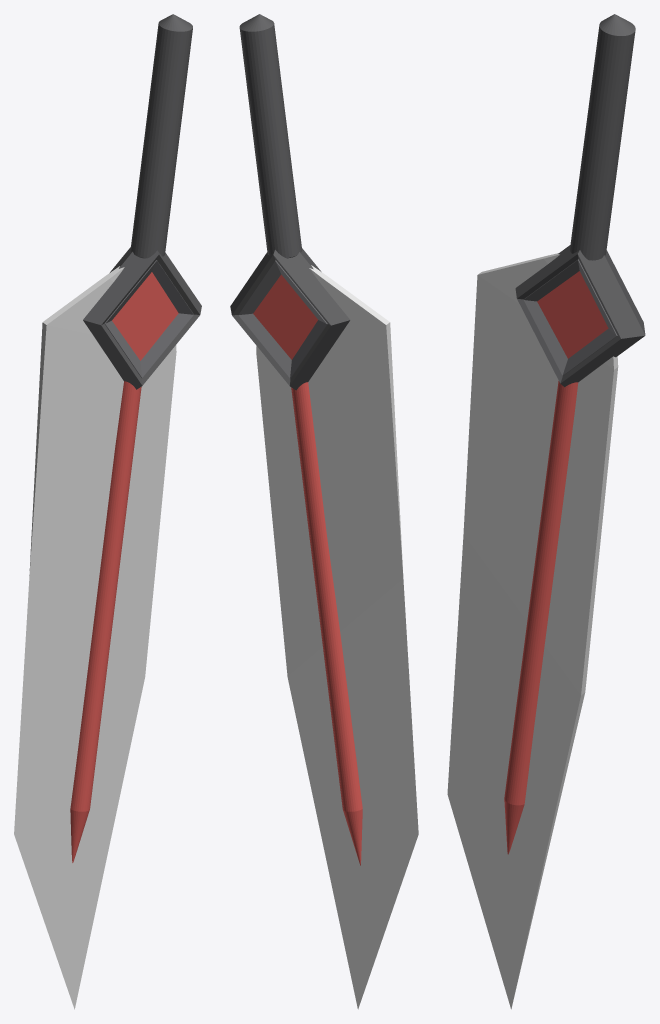
Rendered from Dagger_Black_1.fbx.
3 renders of one model, left to right at view 1: azimuth 30°, elevation 25°; view 2: azimuth 150°, elevation 25°; view 3: azimuth 330°, elevation 25°, orthographic. The views are drawn at different scales.
Visible parts, largest first — view 1: Cube.002, Cylinder.002, Torus.004, Cube.006, Torus.005; view 2: Cube.002, Cylinder.002, Torus.004, Cube.006, Torus.005; view 3: Cube.002, Cylinder.002, Torus.004, Cube.006, Torus.005.
Part boxes in pixels (box(x1,y1,x2,y2)): Cube.002: box(14, 266, 176, 1009); Cylinder.002: box(70, 14, 192, 862); Torus.004: box(83, 247, 201, 389); Cube.006: box(112, 272, 178, 360); Torus.005: box(104, 260, 193, 377); Cube.002: box(256, 265, 418, 1009); Cylinder.002: box(239, 14, 362, 865); Torus.004: box(230, 248, 350, 390); Cube.006: box(253, 274, 317, 359); Torus.005: box(238, 260, 327, 378); Cube.002: box(447, 253, 618, 1009); Cylinder.002: box(504, 14, 635, 854); Torus.004: box(515, 245, 645, 387); Cube.006: box(537, 271, 608, 358); Torus.005: box(523, 259, 617, 375).
Size of the model in its own units: 58.51 by 289 by 11.61.
